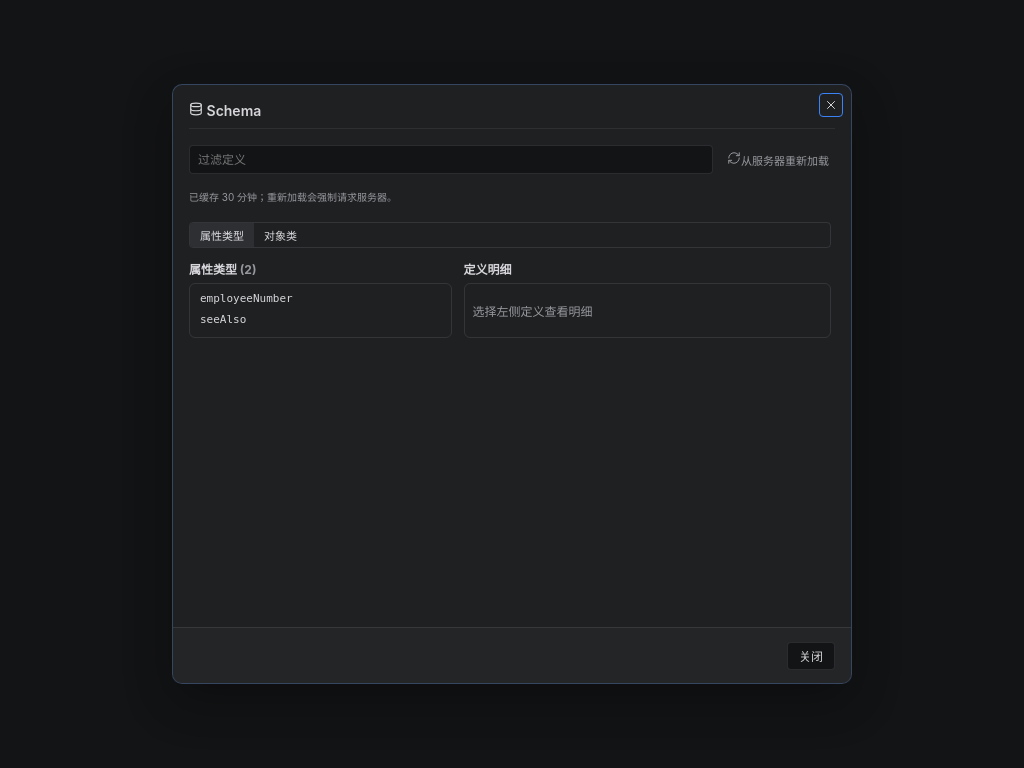
it: SchemaPanel details pane › shows MUST, MAY, the SUP chain and referencing classes for a selected objectClass
The width and height of the screenshot is (1024, 768).
Click the tab "对象类": (280,234) top-left (254, 222), bottom-right (307, 246)
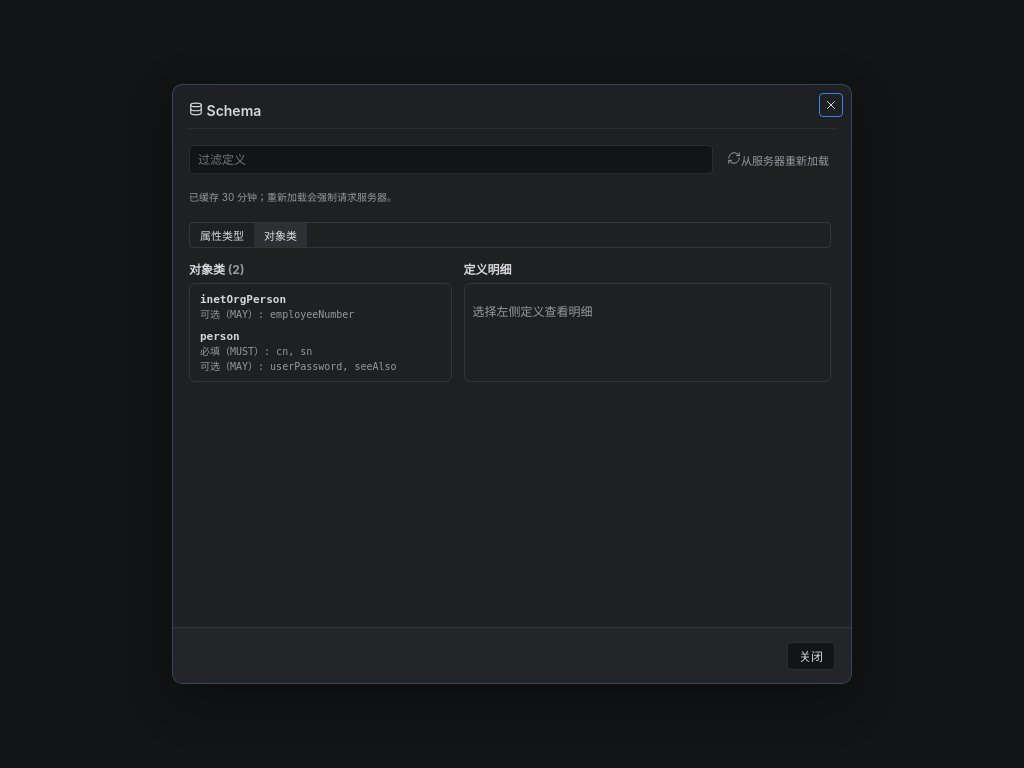
Click the list item "person 必填（MUST）: cn, sn 可选（MAY）: userPassword, seeAlso": (298,350) top-left (200, 330), bottom-right (396, 372)
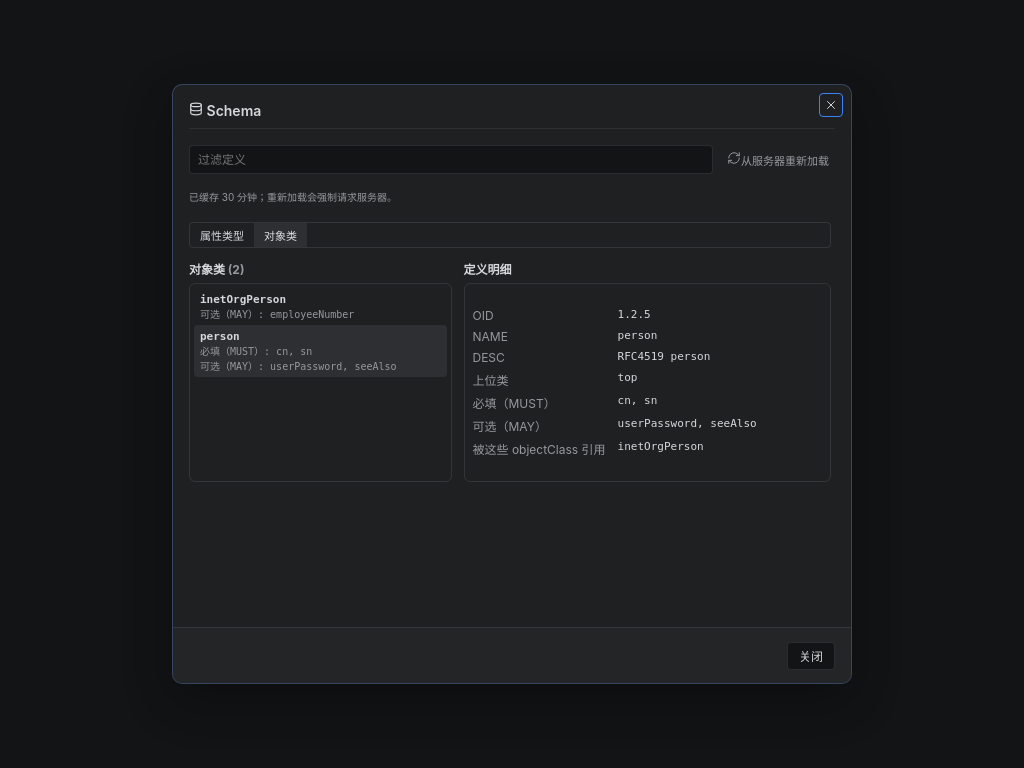
Check: the element that starts with "定义明细" shows "1.2.5", box top-left (618, 308), bottom-right (651, 320)
Check: the element that starts with "定义明细" shows "RFC4519 person", box top-left (618, 350), bottom-right (710, 362)
Check: the element that starts with "定义明细" shows "cn, sn", box top-left (618, 394), bottom-right (657, 406)
